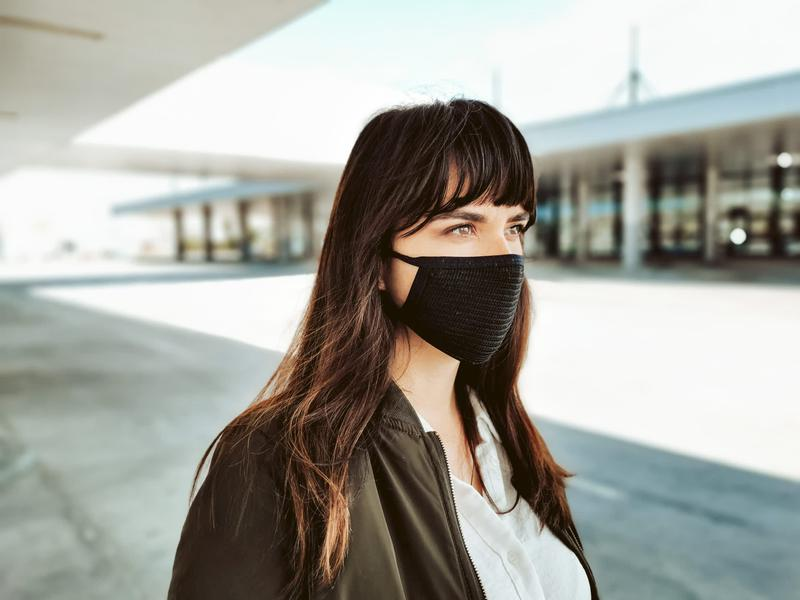mask: (377, 243, 528, 370)
